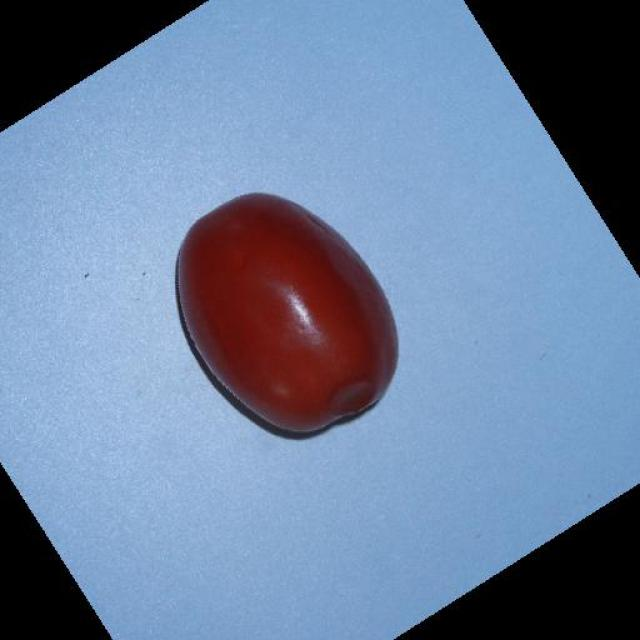Stale_tomato: (178, 201, 391, 432)
